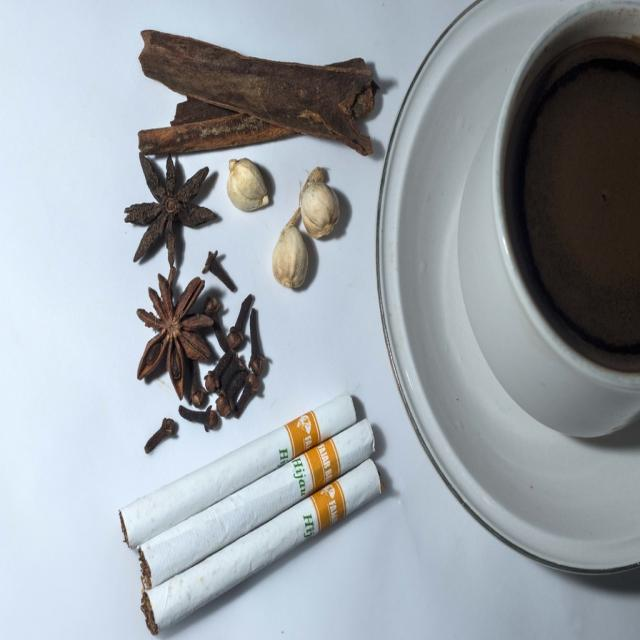Tea: (508, 31, 640, 377)
